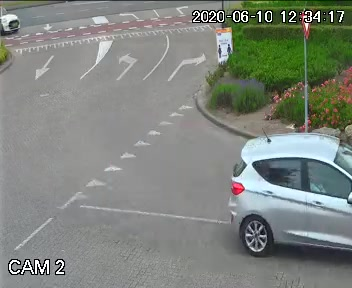car: (220, 121, 352, 256)
